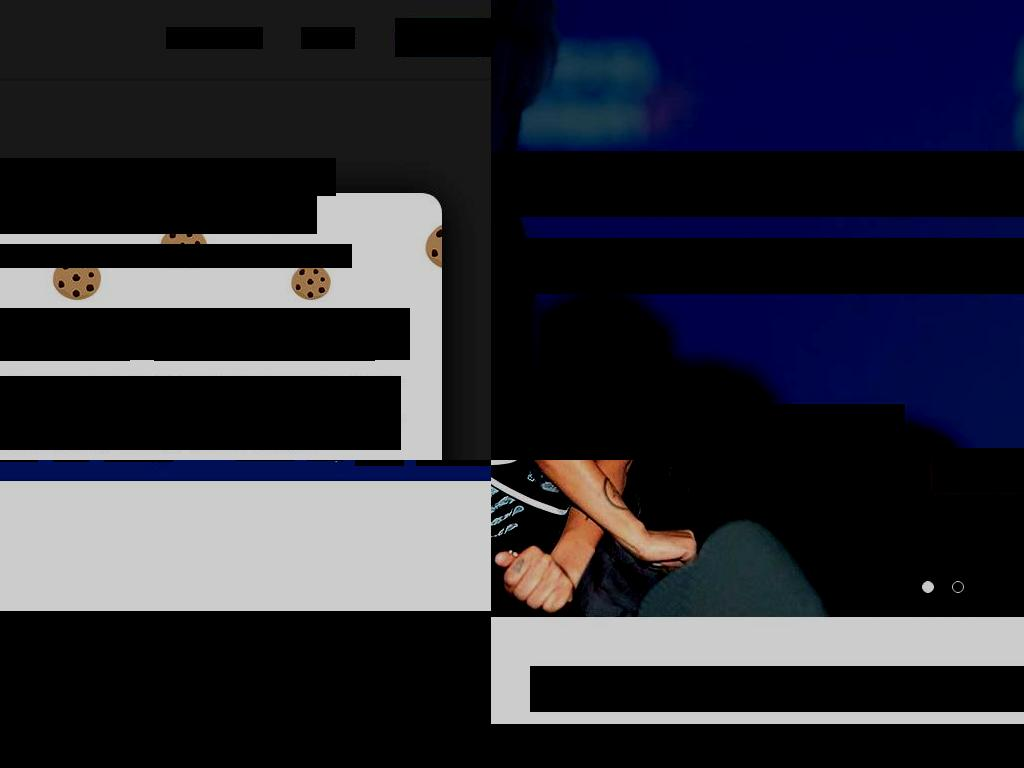button: (0, 611, 491, 768), (154, 308, 375, 361), (735, 404, 905, 448), (0, 308, 130, 361), (743, 460, 907, 493), (395, 18, 491, 57), (932, 460, 1024, 493), (355, 460, 404, 466)
field: (530, 666, 1024, 712)
heading: (491, 151, 1024, 217), (491, 238, 1024, 294), (0, 158, 336, 196), (0, 196, 317, 234), (0, 244, 352, 268)
image: (0, 611, 491, 768)
link: (166, 27, 263, 49), (301, 27, 355, 49), (99, 414, 159, 431)
text: (491, 724, 1024, 768), (0, 376, 401, 431), (0, 308, 410, 360), (0, 414, 401, 450), (219, 326, 310, 343), (0, 326, 83, 343), (421, 29, 466, 46)
